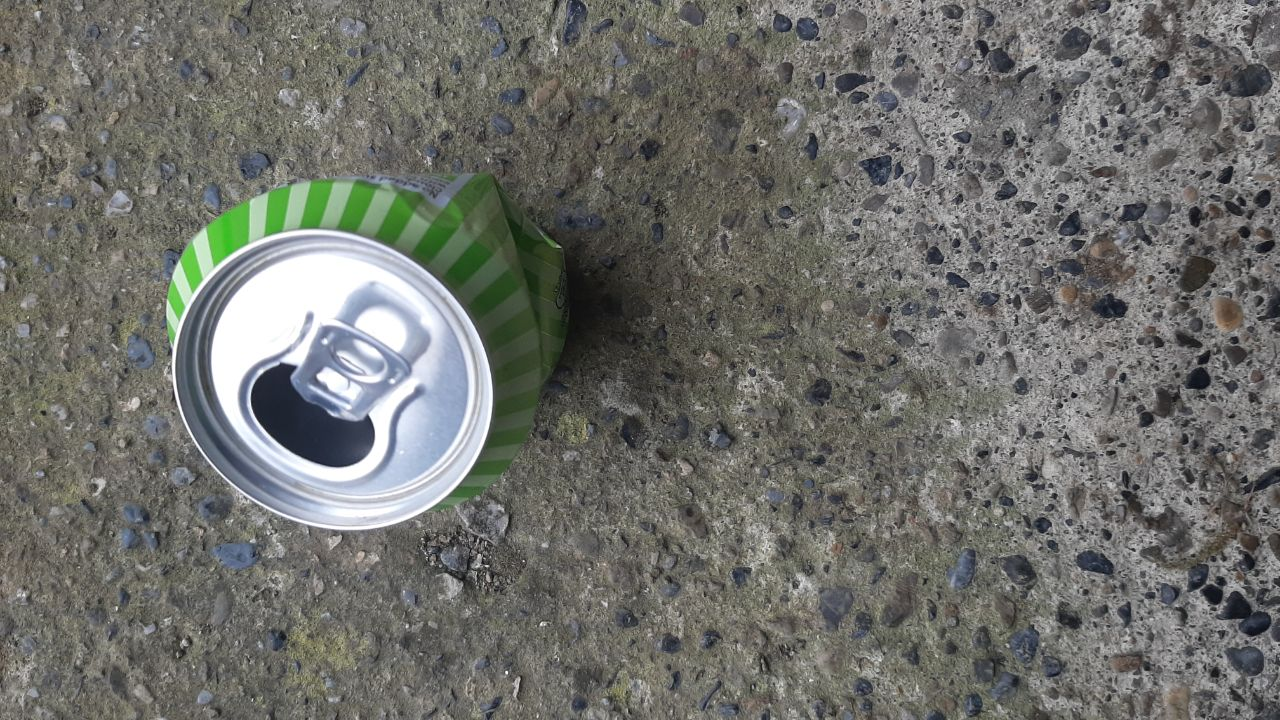Can: (164, 172, 573, 532)
